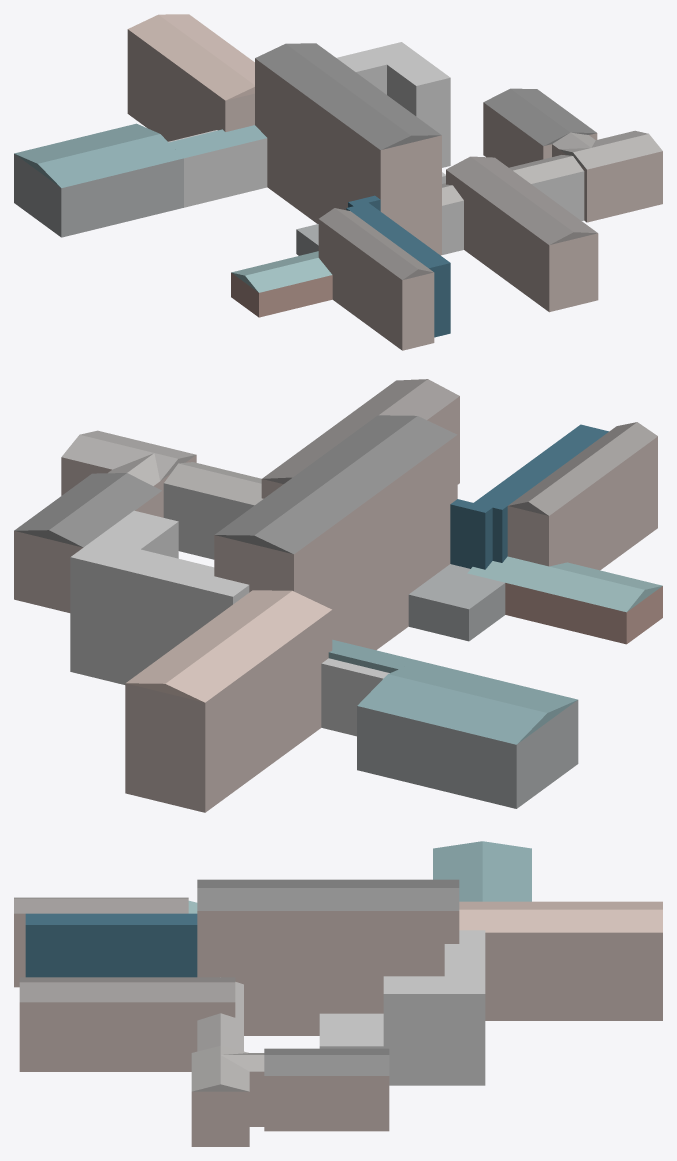
File: tamkmin.glb
The picture shows the model from 3 angles, top to bottom: view 1: azimuth 30°, elevation 25°; view 2: azimuth 150°, elevation 25°; view 3: azimuth 270°, elevation 25°; orthographic projection. The views are drawn at different scales.
Parts seen in each view (by area): view 1: Mesh_Mesh_head_geo.001_lambert2SG.001; view 2: Mesh_Mesh_head_geo.001_lambert2SG.001; view 3: Mesh_Mesh_head_geo.001_lambert2SG.001.
Boxes of the visible parts, <box> form: Mesh_Mesh_head_geo.001_lambert2SG.001: <box>14,14,662,350</box>; Mesh_Mesh_head_geo.001_lambert2SG.001: <box>14,379,662,812</box>; Mesh_Mesh_head_geo.001_lambert2SG.001: <box>14,841,662,1146</box>.
Size of the model in its own units: 36 by 9 by 40.
